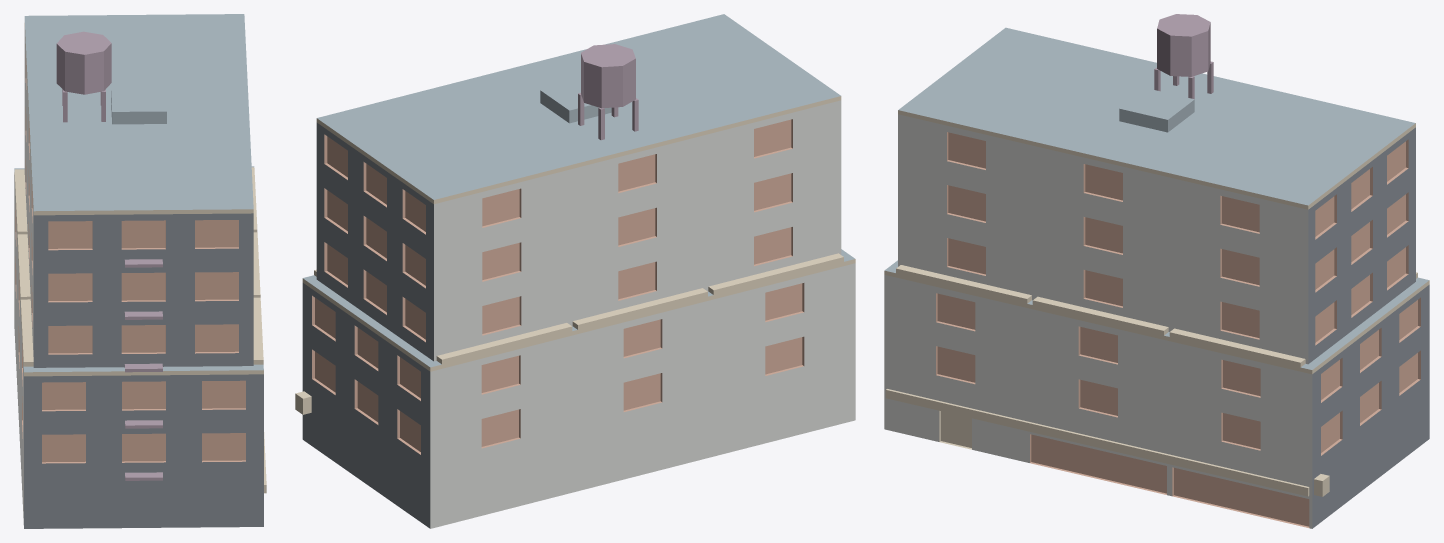
The model's file is doitt-460555__lod_0.glb.
3 renders of one model, left to right at view 1: azimuth 30°, elevation 25°; view 2: azimuth 150°, elevation 25°; view 3: azimuth 270°, elevation 25°, orthographic. The views are drawn at different scales.
Bounding box in the file's own units: 28.16 × 26.77 × 34.06.
